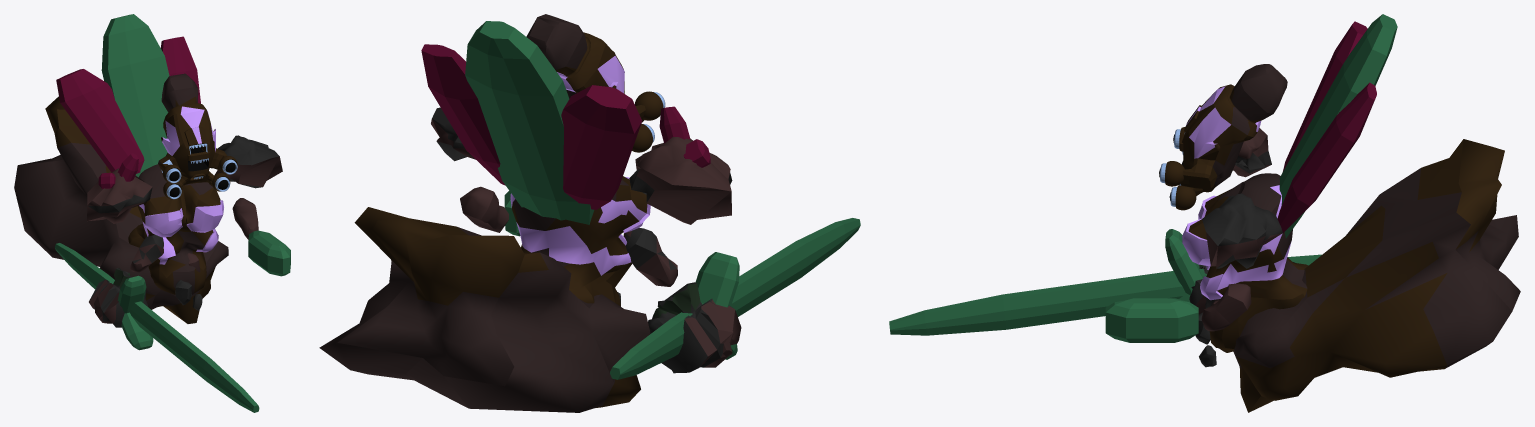
File: CrystalQueen01.FBX
3 views of the same model, side by side, from view 1: azimuth 30°, elevation 25°; view 2: azimuth 150°, elevation 25°; view 3: azimuth 270°, elevation 25° (orthographic). The views are drawn at different scales.
Visible parts, largest first — view 1: lower body, body, Backcrystal M, head, Backcrystal L, Projectile, Shoulder R, Shoulder L, Backcrystal M001, LowerArm R, Backcrystal R, Bicep R (+9 smaller); view 2: lower body, Backcrystal M, body, Backcrystal L, Projectile, Shoulder R, LowerArm R, head, Backcrystal R, Bicep R, Projectile002, Bicep L001 (+4 smaller); view 3: lower body, Projectile, body, head, Backcrystal M, Backcrystal R, Shoulder L, Backcrystal M001, Backcrystal L, Bicep L001, Projectile002, Shoulder R.
Part boxes in pixels (<box>): lower body: <box>14,96,228,323</box>; body: <box>128,164,223,296</box>; Backcrystal M: <box>101,14,169,177</box>; head: <box>158,73,226,189</box>; Backcrystal L: <box>56,69,144,173</box>; Projectile: <box>55,243,259,412</box>; Shoulder R: <box>87,168,152,223</box>; Shoulder L: <box>214,135,282,188</box>; Backcrystal M001: <box>248,230,290,276</box>; LowerArm R: <box>89,268,147,327</box>; Backcrystal R: <box>160,36,200,103</box>; Bicep R: <box>130,234,163,272</box>; lower body: <box>319,207,650,412</box>; Backcrystal M: <box>465,21,594,224</box>; body: <box>510,176,650,306</box>; Backcrystal L: <box>561,85,641,209</box>; Projectile: <box>610,218,860,379</box>; Shoulder R: <box>629,137,732,224</box>; LowerArm R: <box>648,282,741,373</box>; head: <box>526,14,645,122</box>; Backcrystal R: <box>421,44,505,185</box>; Bicep R: <box>623,227,677,286</box>; Projectile002: <box>695,252,739,307</box>; Bicep L001: <box>460,186,508,232</box>; lower body: <box>1233,139,1520,412</box>; Projectile: <box>889,254,1321,335</box>; body: <box>1182,173,1308,352</box>; head: <box>1179,64,1287,195</box>; Backcrystal M: <box>1279,14,1397,237</box>; Backcrystal R: <box>1277,82,1376,232</box>; Shoulder L: <box>1202,193,1282,268</box>; Backcrystal M001: <box>1105,298,1198,342</box>; Backcrystal L: <box>1283,21,1367,171</box>; Bicep L001: <box>1201,283,1251,331</box>; Projectile002: <box>1165,229,1202,294</box>; Shoulder R: <box>1233,128,1271,177</box>.
Size of the model in its own units: 21.89 by 45.95 by 30.41.
